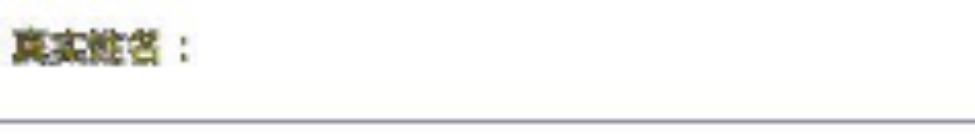EditText: (1, 1, 974, 139)
